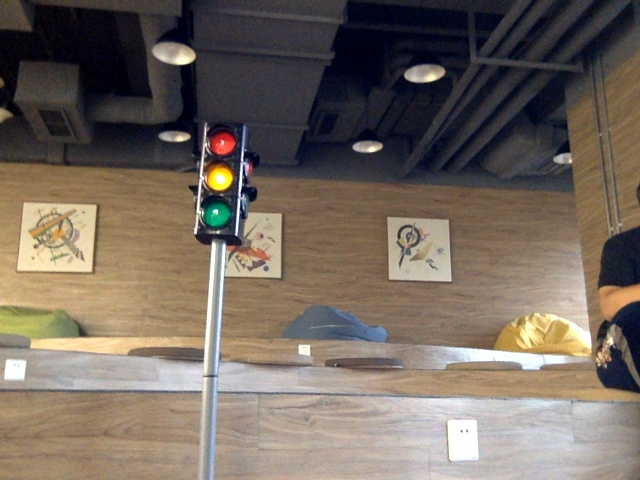yellow: (202, 126, 237, 231)
